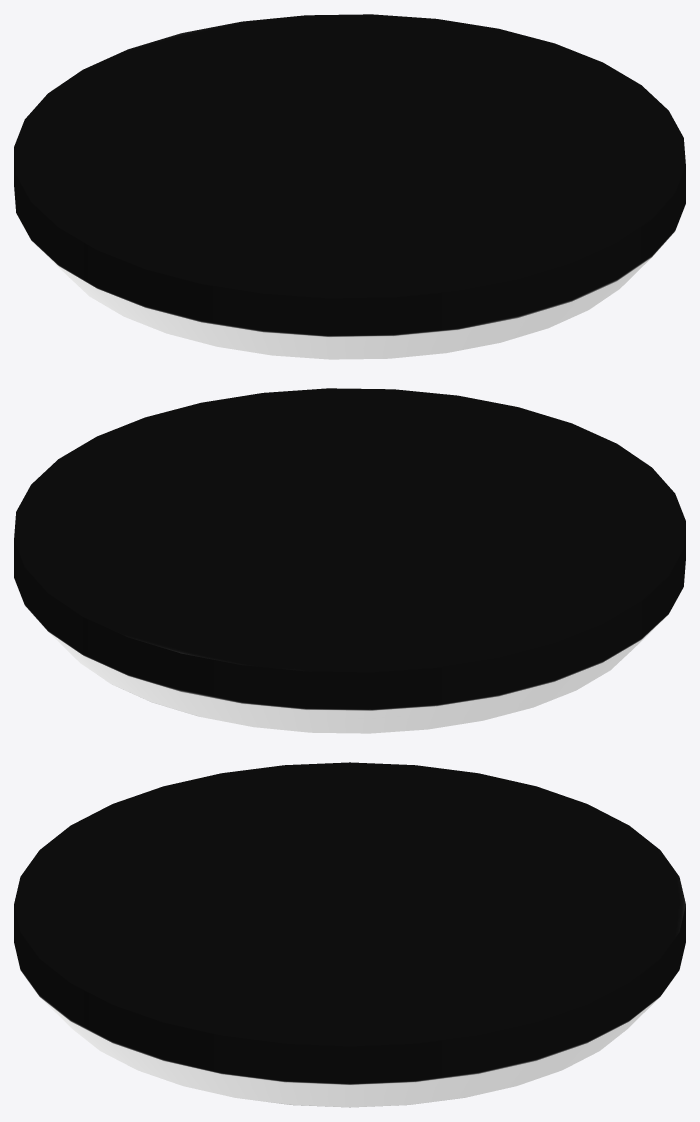
Rendered from lamp.gltf.
3 views of the same model, one above another, from view 1: azimuth 30°, elevation 25°; view 2: azimuth 150°, elevation 25°; view 3: azimuth 270°, elevation 25° (orthographic).
Parts seen in each view (by area): view 1: Cylinder; view 2: Cylinder; view 3: Cylinder.
Part boxes in pixels (box(x1,y1,x2,y2)): Cylinder: box(14, 14, 685, 359); Cylinder: box(14, 388, 685, 733); Cylinder: box(14, 762, 685, 1107).
Size of the model in its own units: 2 by 0.25 by 2.
Materials: 1 (1 with a texture image).
